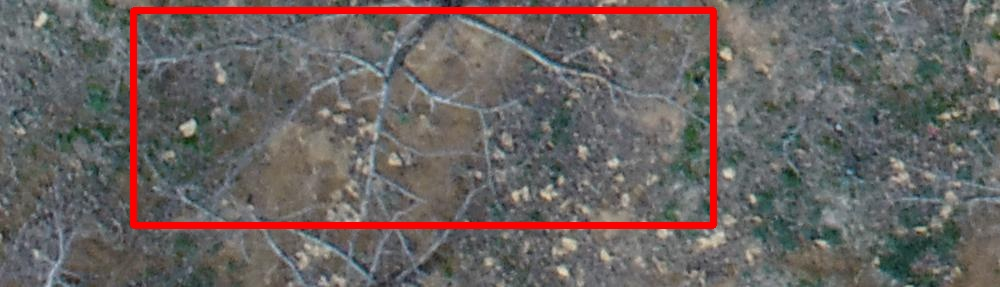apple: (133, 10, 713, 225)
